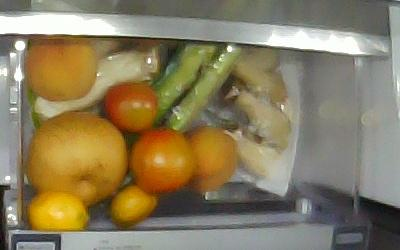peach: (26, 39, 98, 101), (185, 128, 237, 192)
pear: (27, 112, 126, 205)
tangerine: (27, 192, 89, 230), (112, 186, 157, 227)
tomato: (131, 127, 193, 191), (106, 82, 157, 132)
